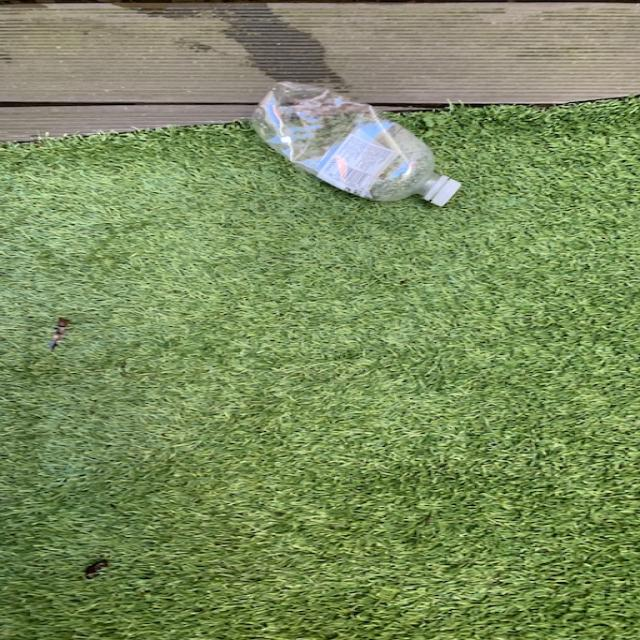litter: (248, 82, 466, 210)
